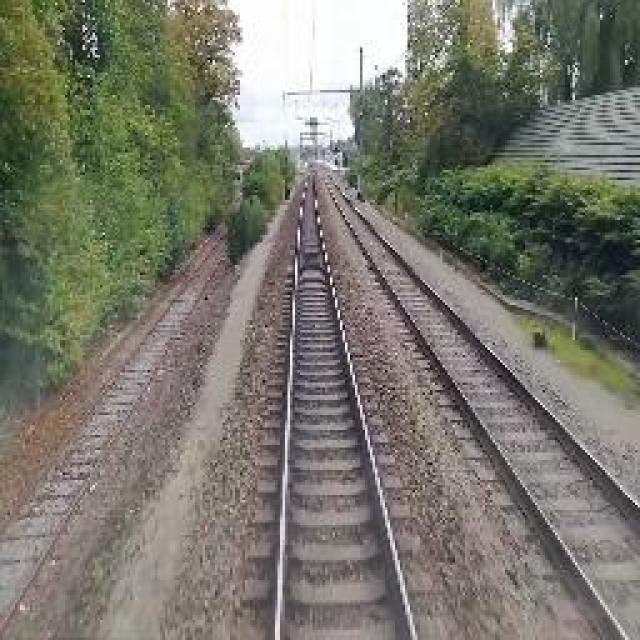rail: (314, 168, 640, 640), (235, 168, 463, 640)
